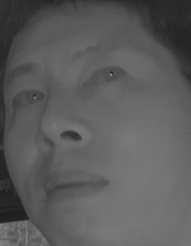eye: (83, 62, 130, 91), (8, 86, 45, 115)
mouth: (39, 164, 108, 210)
